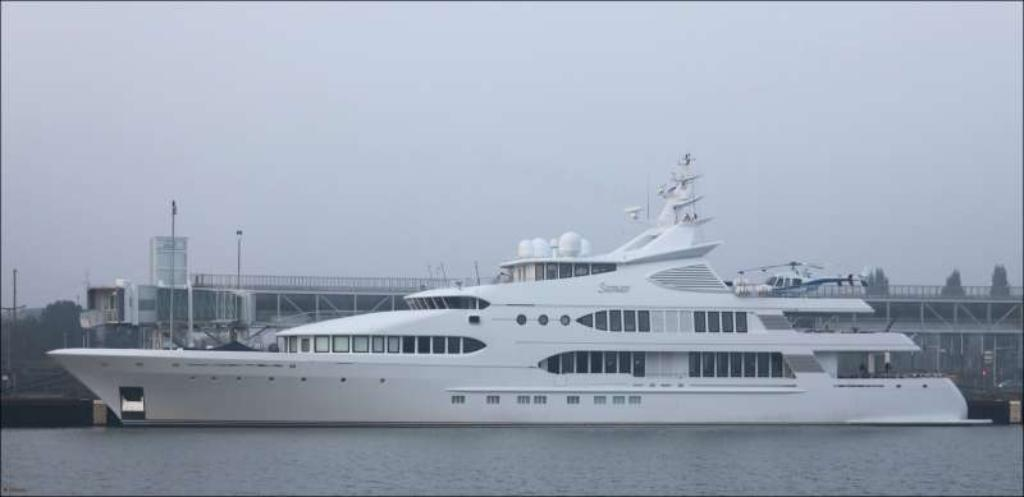PassengerShip: (34, 165, 990, 431)
